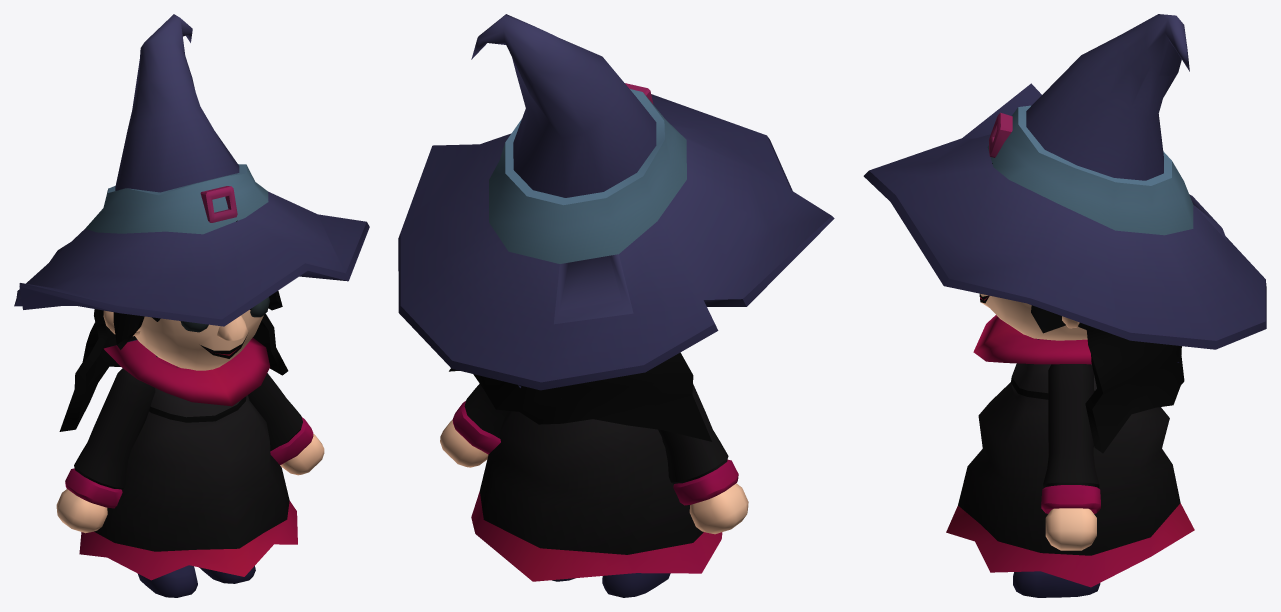
File: Witch_1.glb
3 renders of one model, left to right at view 1: azimuth 30°, elevation 25°; view 2: azimuth 150°, elevation 25°; view 3: azimuth 270°, elevation 25°, orthographic. The views are drawn at different scales.
Visible parts, largest first — view 1: Mage_Hat, Cloak.001, Mage_ArmLeft.017, Mage_Head.009, Hair.001, Mage_ArmLeft.007, Mage_LegRight.007; view 2: Mage_Hat, Cloak.001, Hair.001, Mage_ArmLeft.017, Mage_ArmLeft.007, Mage_LegRight.007; view 3: Mage_Hat, Cloak.001, Mage_ArmLeft.007, Hair.001, Mage_Head.009, Mage_LegLeft.007.
Part boxes in pixels (x1,y1,x2,y2): Mage_Hat: [14, 14, 369, 326]; Cloak.001: [79, 337, 297, 580]; Mage_ArmLeft.017: [56, 368, 155, 533]; Mage_Head.009: [103, 297, 269, 370]; Hair.001: [59, 220, 288, 431]; Mage_ArmLeft.007: [248, 373, 324, 475]; Mage_LegRight.007: [138, 565, 197, 597]; Mage_Hat: [398, 14, 834, 390]; Cloak.001: [471, 385, 722, 581]; Hair.001: [449, 352, 711, 441]; Mage_ArmLeft.017: [658, 384, 748, 534]; Mage_ArmLeft.007: [440, 383, 507, 467]; Mage_LegRight.007: [602, 573, 670, 597]; Mage_Hat: [863, 14, 1266, 349]; Cloak.001: [946, 315, 1194, 587]; Mage_ArmLeft.007: [1041, 364, 1100, 550]; Hair.001: [992, 163, 1184, 453]; Mage_Head.009: [979, 293, 1087, 340]; Mage_LegLeft.007: [1013, 571, 1100, 597].
Size of the model in its own units: 2.04 by 2.87 by 1.83.
4 materials, 4 textured.
